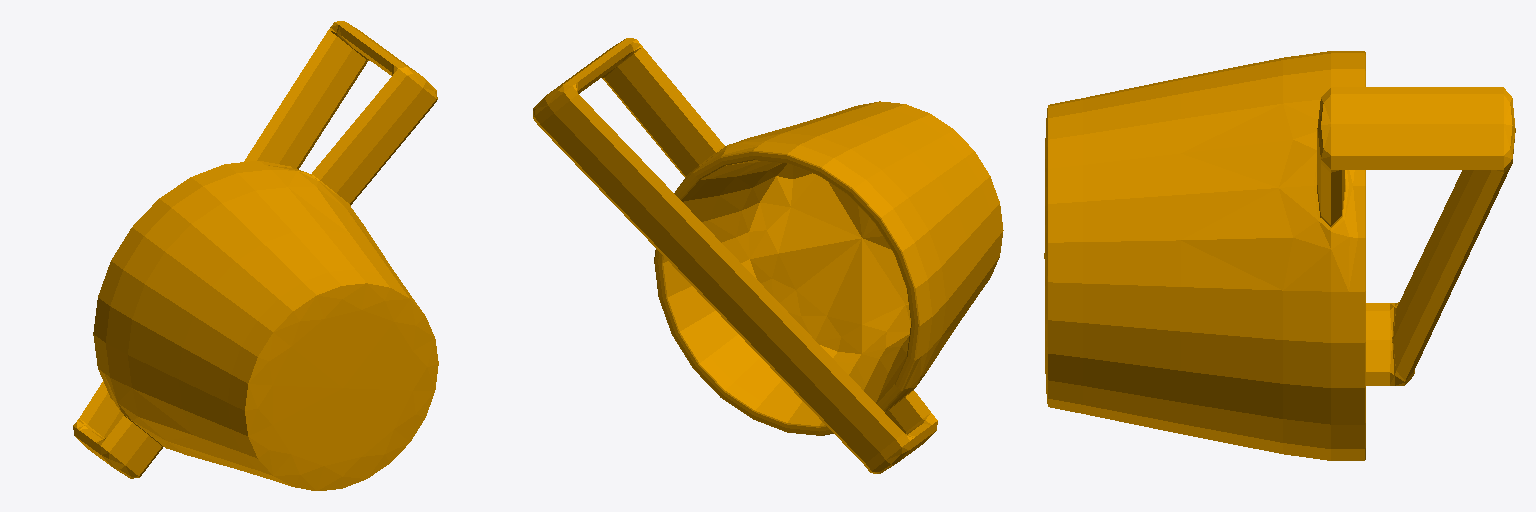
The robot description file, URDF, robot "155":
<?xml version="1.0" ?>
<robot name="155">
  <link name="body">
    <visual>
      <geometry>
        <mesh filename="../shapes/155.obj"/>
      </geometry>
    </visual>
    <collision>
      <geometry>
        <mesh filename="../shapes/155.obj"/>
      </geometry>
    </collision>
  </link>
</robot>

--- What the picture shows (computed from the rendered views, not written in the file) ---
Views: 3 orthographic renders of the robot side by side, from view 1: azimuth 30°, elevation 25°; view 2: azimuth 150°, elevation 25°; view 3: azimuth 270°, elevation 25°.
Robot: 155 — 1 links, 0 joints (none); root link body; default pose: every joint at zero.
Links seen in each view (by area): view 1: body; view 2: body; view 3: body.
Link boxes in pixels (x1=…): body: x1=73, y1=21, x2=438, y2=490; body: x1=533, y1=38, x2=1003, y2=473; body: x1=1044, y1=51, x2=1515, y2=460.
Bounding box of the posed robot: 2.32 × 2.07 × 2.28 m (x, y, z).
1 mesh visuals loaded from 1 distinct referenced files (1 OBJ).